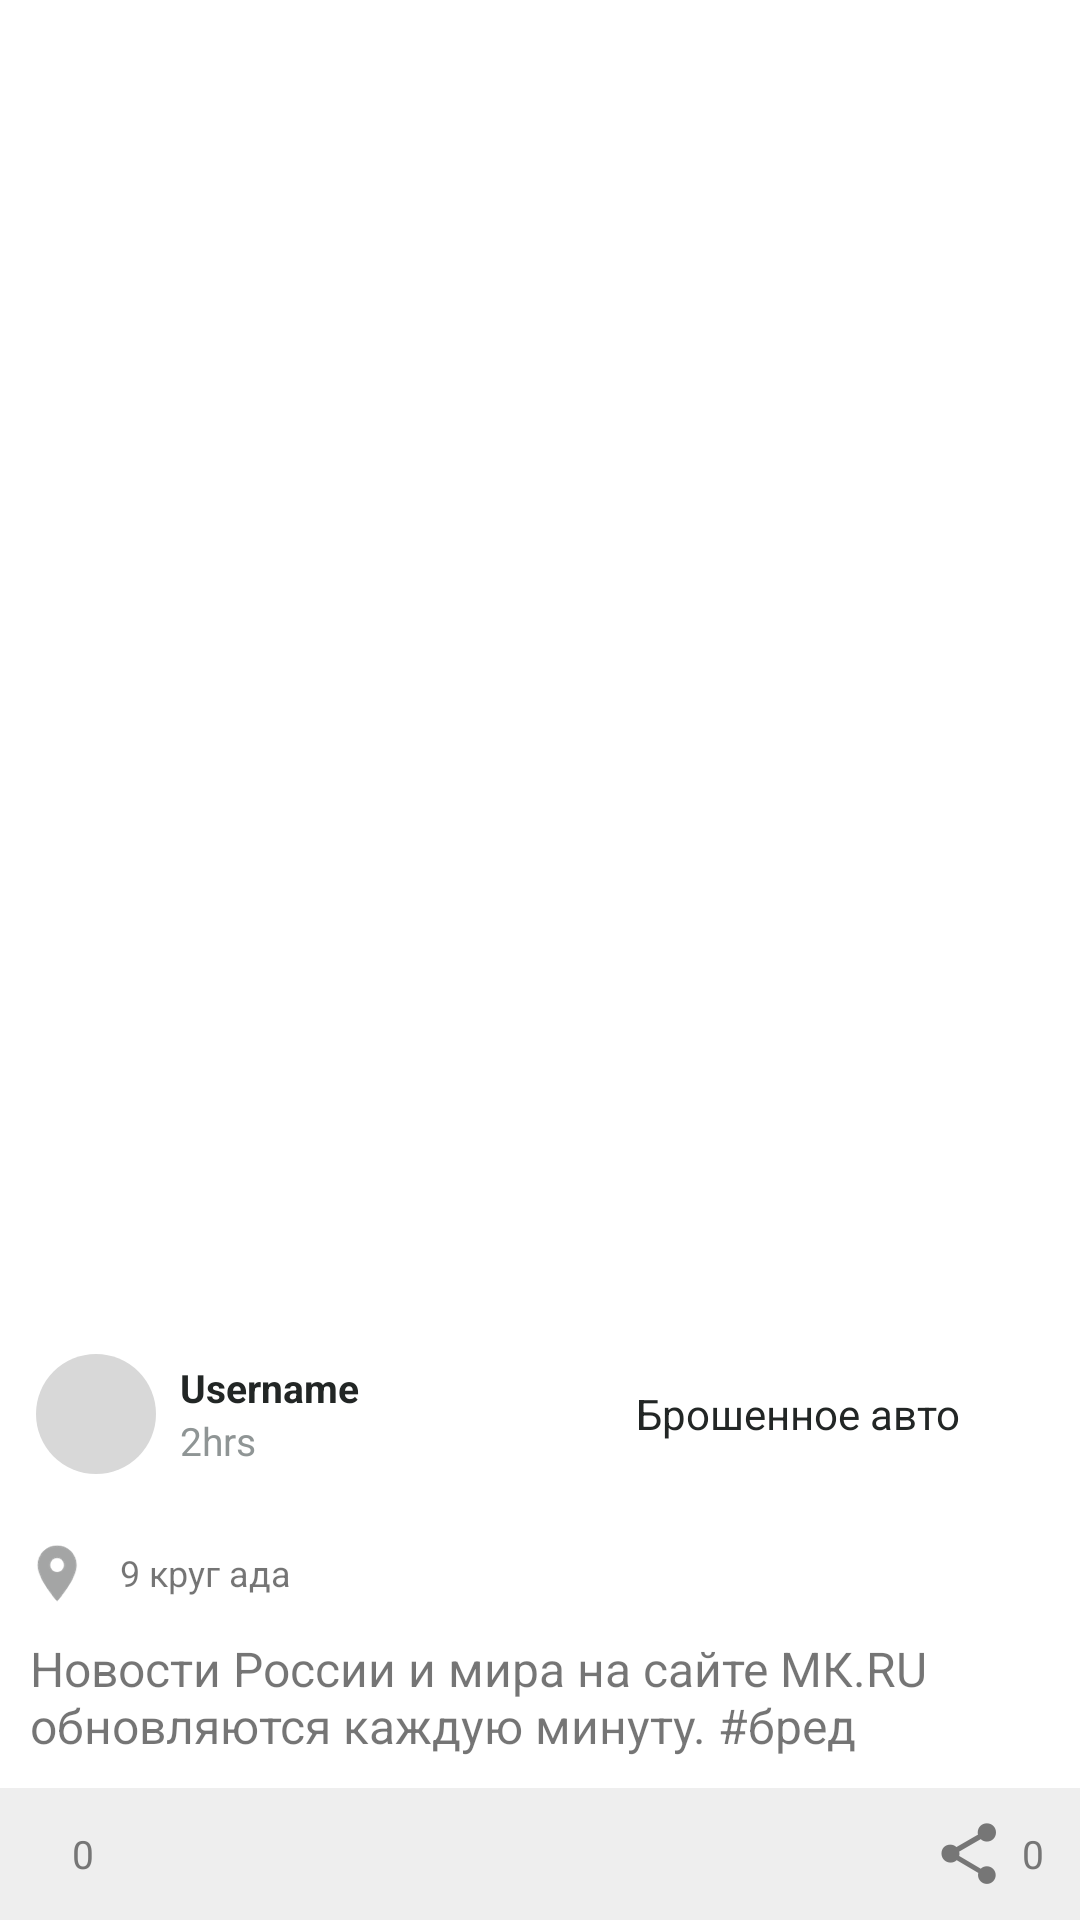

Locate icon controls on the screen. Image size 1080×1920, boxes as {"x1": x1, "y1": y1, "x2": x2, "y2": y2}.
share: {"x1": 941, "y1": 1823, "x2": 996, "y2": 1884}
